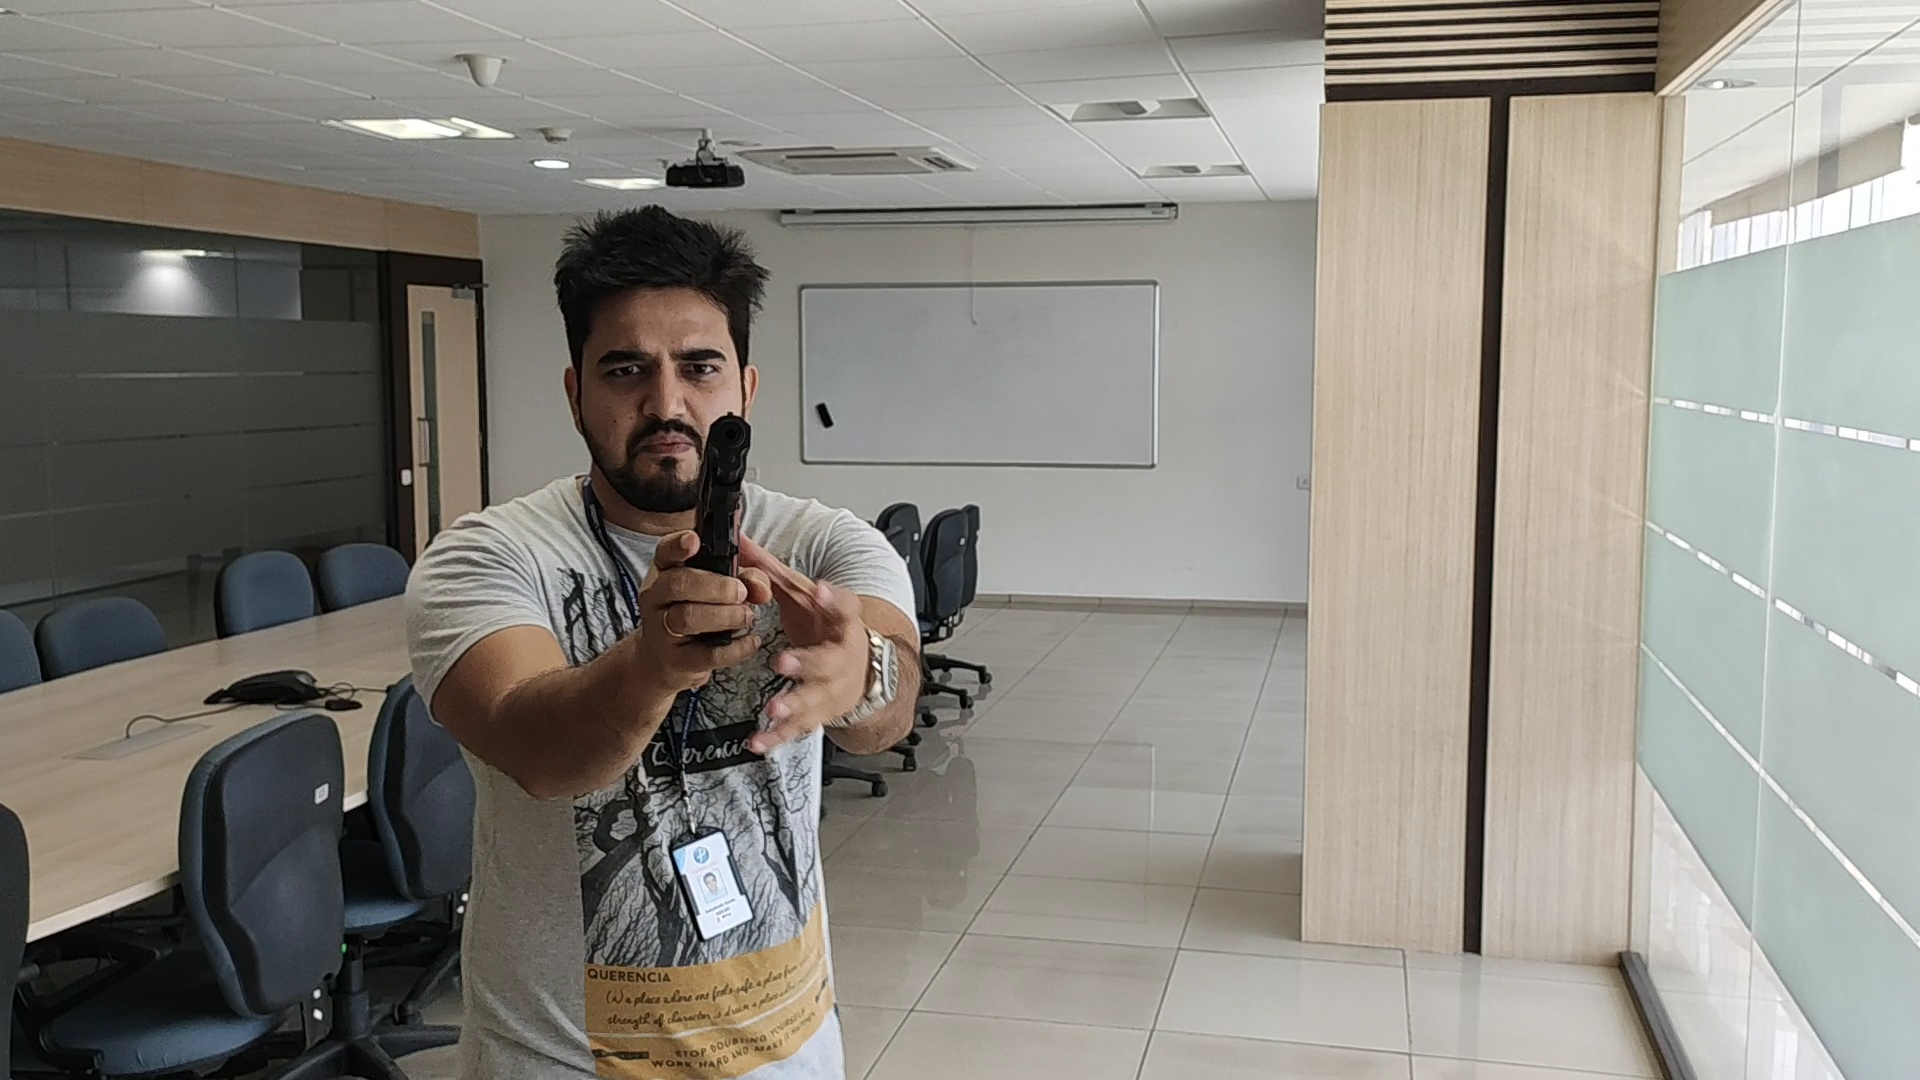gun: (694, 411, 753, 529)
